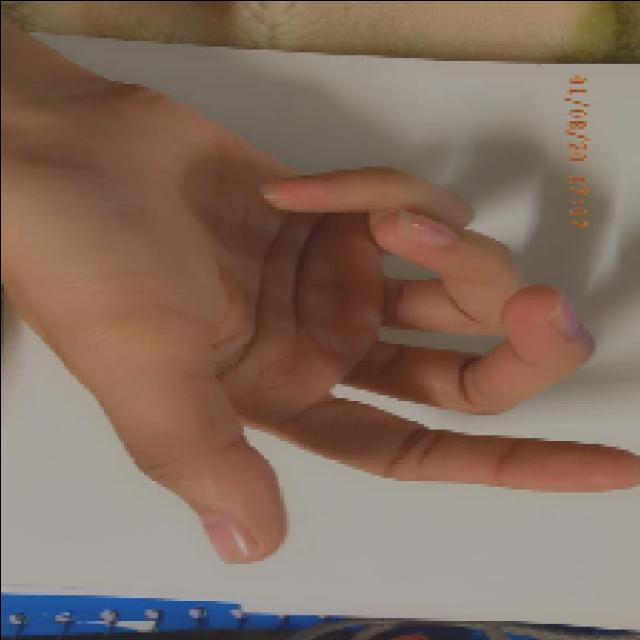Nail: (196, 511, 255, 564), (398, 208, 459, 245), (257, 175, 328, 204), (550, 288, 581, 337)
